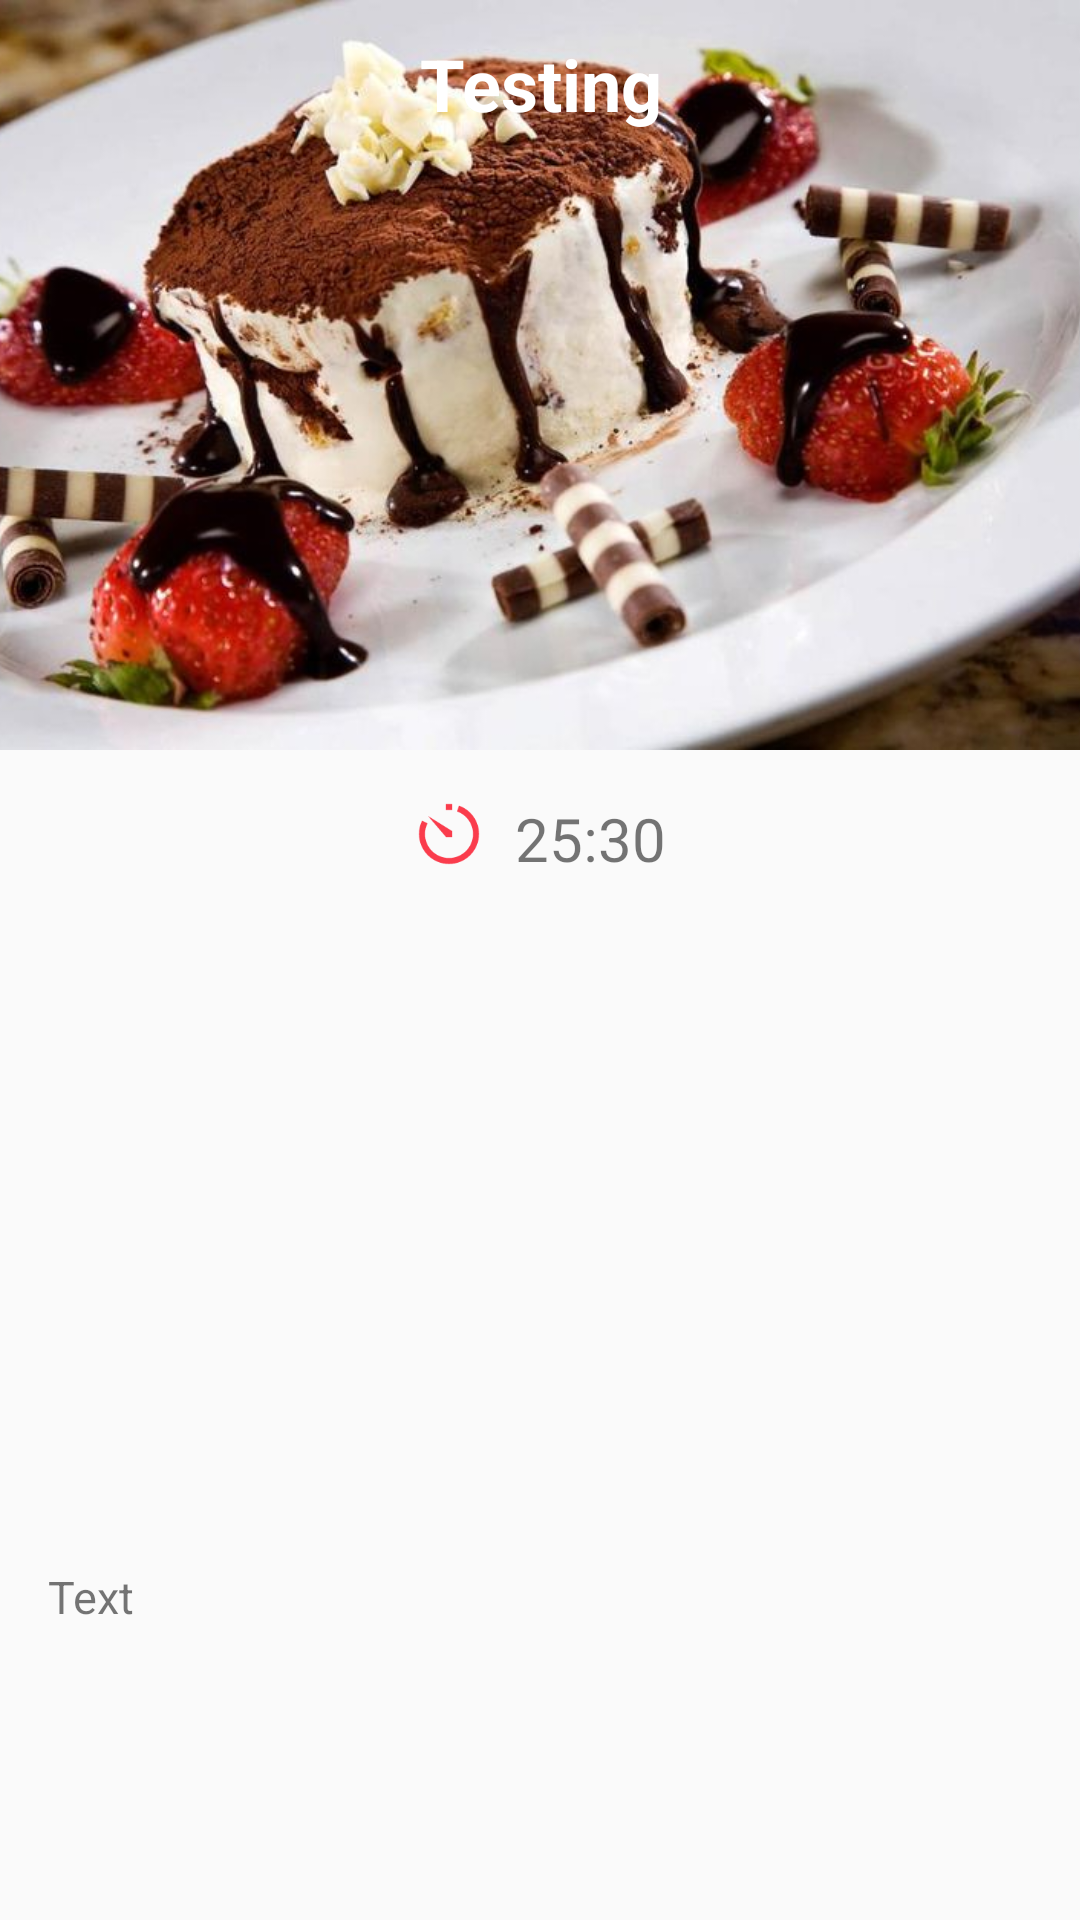

Screen size 1080*1920. Icon name, then its box in pixels as [x1,y1,x2,y2]:
timer: [419,804,479,864]
